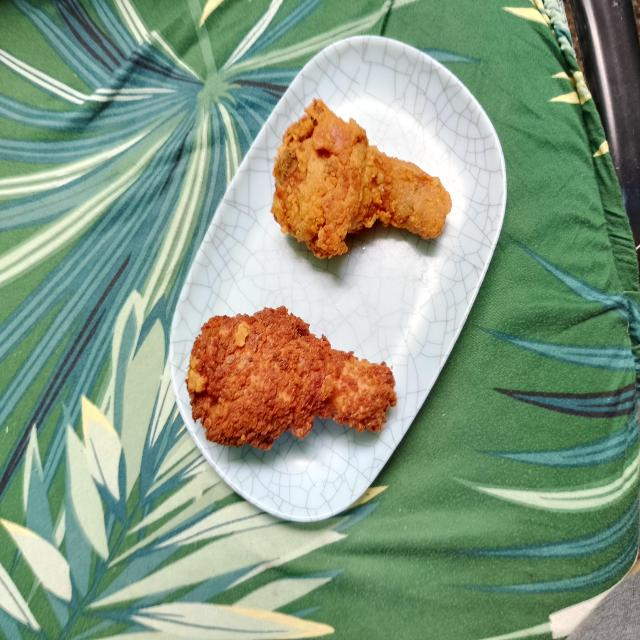Chicken -Fried Chicken-: (178, 296, 403, 488), (260, 91, 460, 273)
